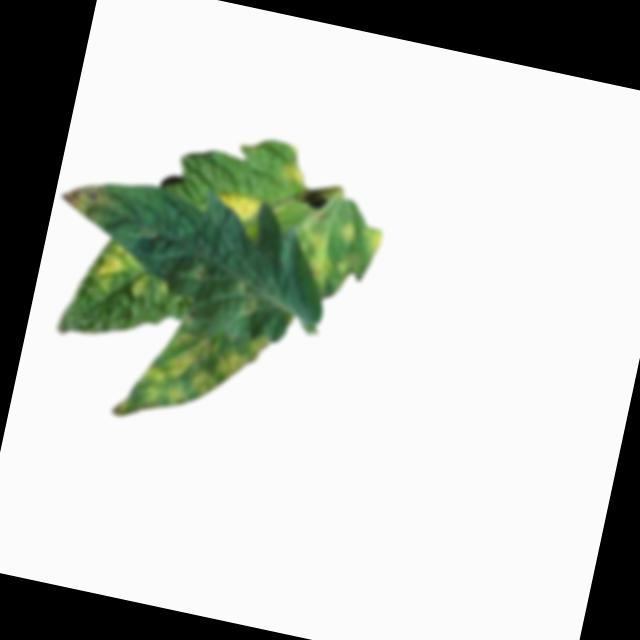Leaf_Mold: (112, 308, 274, 451), (293, 213, 358, 290), (56, 176, 117, 223), (213, 187, 269, 227), (95, 243, 135, 295), (278, 160, 308, 191), (362, 226, 384, 263)
